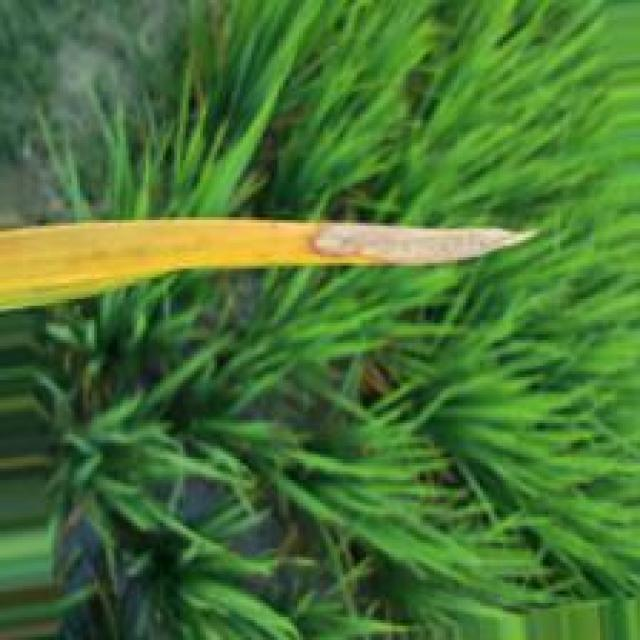Rice False Smut: (301, 224, 508, 268)
